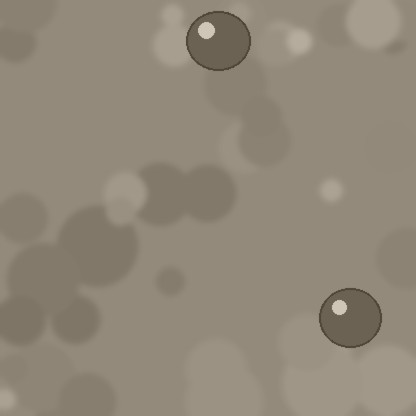gota: (186, 13, 250, 75), (319, 290, 381, 352)
